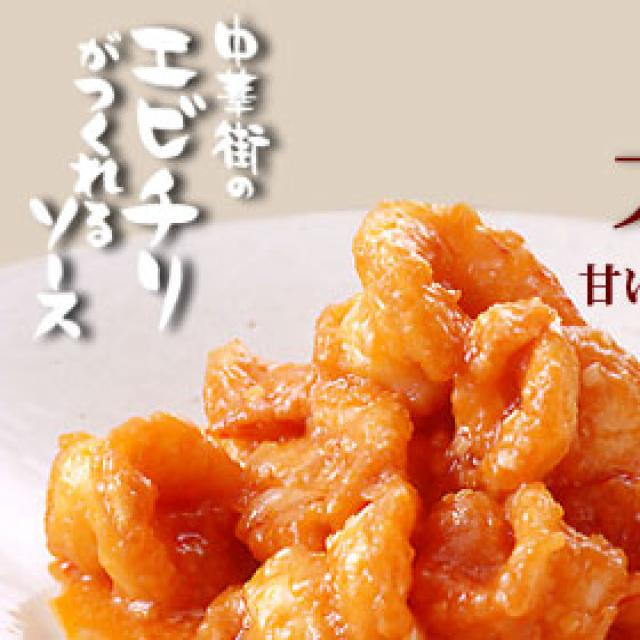熟制海鲜: (0, 343, 640, 640)
